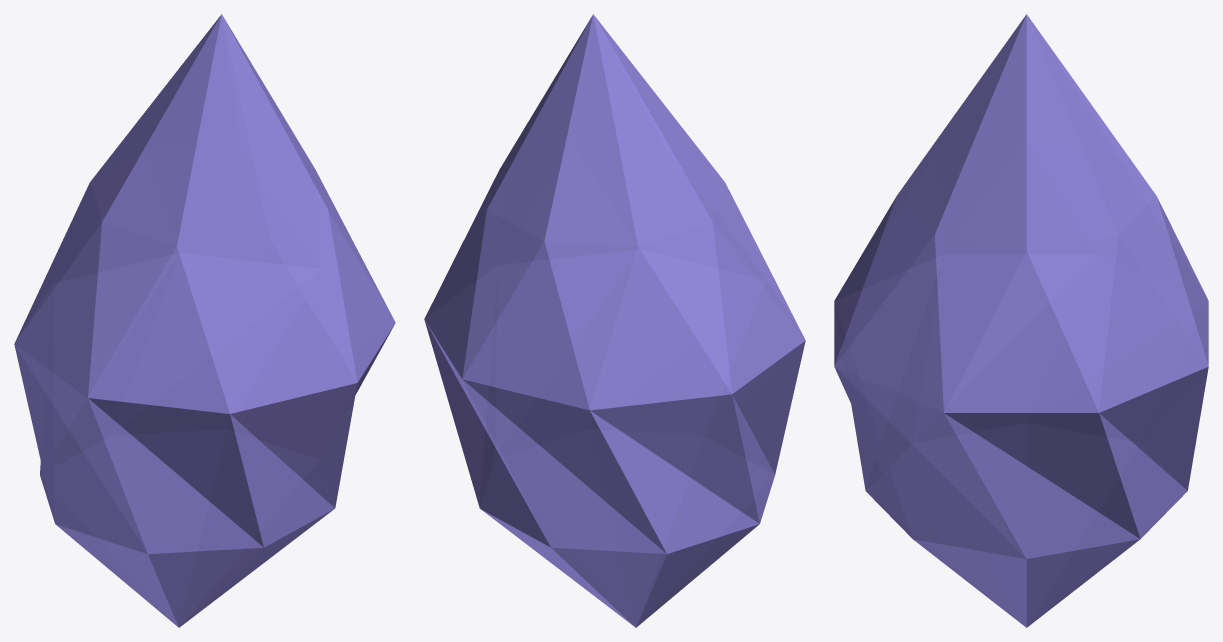
The model's file is crystal.glb.
3 views of the same model, side by side, from view 1: azimuth 30°, elevation 25°; view 2: azimuth 150°, elevation 25°; view 3: azimuth 270°, elevation 25° (orthographic). The views are drawn at different scales.
Parts seen in each view (by area): view 1: Crystal; view 2: Crystal; view 3: Crystal.
Part boxes in pixels (bbox=[...]): Crystal: bbox=[14, 14, 395, 627]; Crystal: bbox=[424, 14, 805, 627]; Crystal: bbox=[834, 14, 1208, 627].
Bounding box in the file's own units: 1.44 × 2.7 × 1.44.
